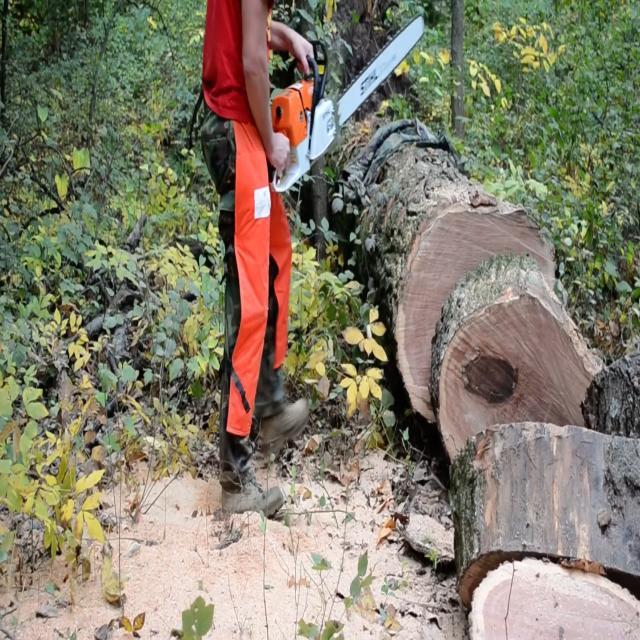Chainsaw: (248, 0, 441, 207)
